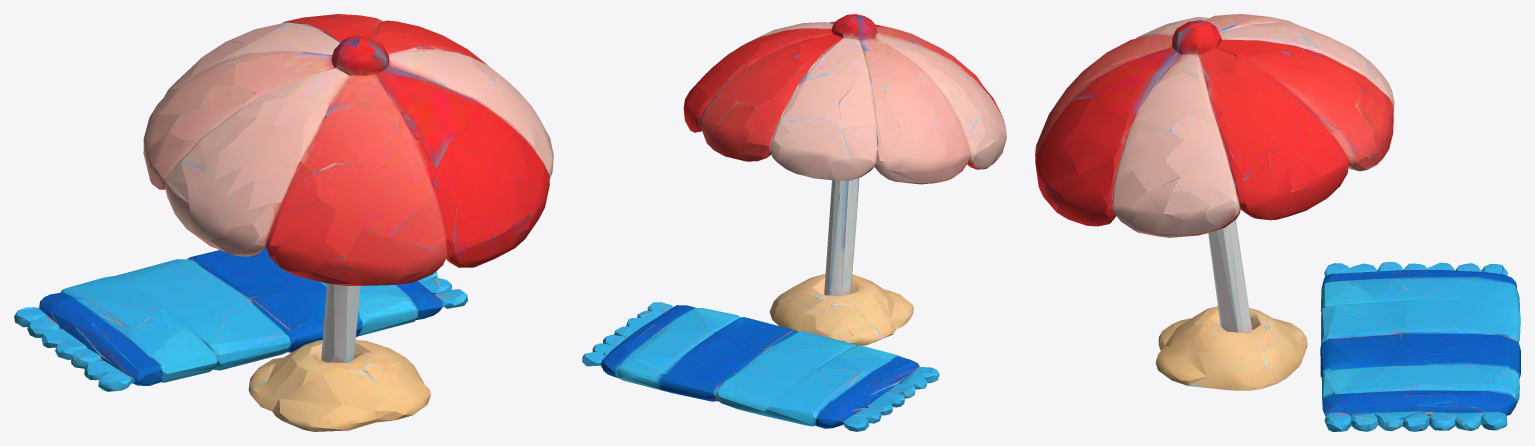
Rendered from strand-parasol.glb.
3 renders of one model, left to right at view 1: azimuth 30°, elevation 25°; view 2: azimuth 150°, elevation 25°; view 3: azimuth 270°, elevation 25°, orthographic. The views are drawn at different scales.
Bounding box in the file's own units: 1.51 × 1.44 × 1.9.
Materials: 1 (1 with a texture image).
